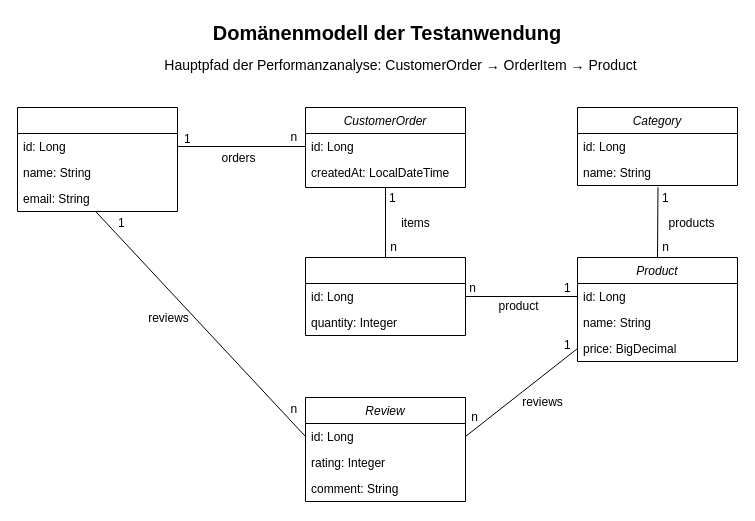
The diagram is 755 pixels wide and 521 high, and some of its shapes have lost their labels. Each missing label, with the box of its shape:
Customer: (16, 106, 178, 212)
OrderItem: (304, 256, 466, 336)
